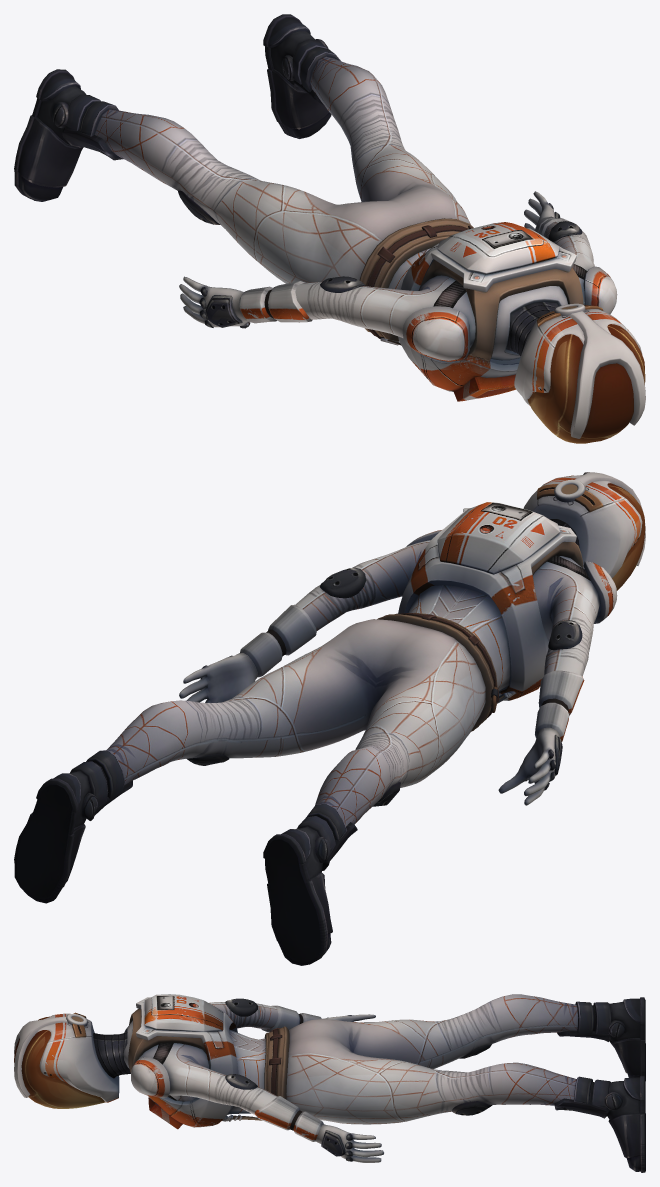
File: Astronaut.obj
3 views of the same model, one above another, from view 1: azimuth 30°, elevation 25°; view 2: azimuth 150°, elevation 25°; view 3: azimuth 270°, elevation 25° (orthographic). The views are drawn at different scales.
Visible parts, largest first — view 1: Astronaut; view 2: Astronaut; view 3: Astronaut.
Boxes of the visible parts, x1,y1,x2,y2 form: Astronaut: (14,14,645,443); Astronaut: (14,472,645,965); Astronaut: (14,994,645,1172).
Size of the model in its own units: 0.084 by 0.0395 by 0.1818.
Materials: 1 (1 with a texture image).
